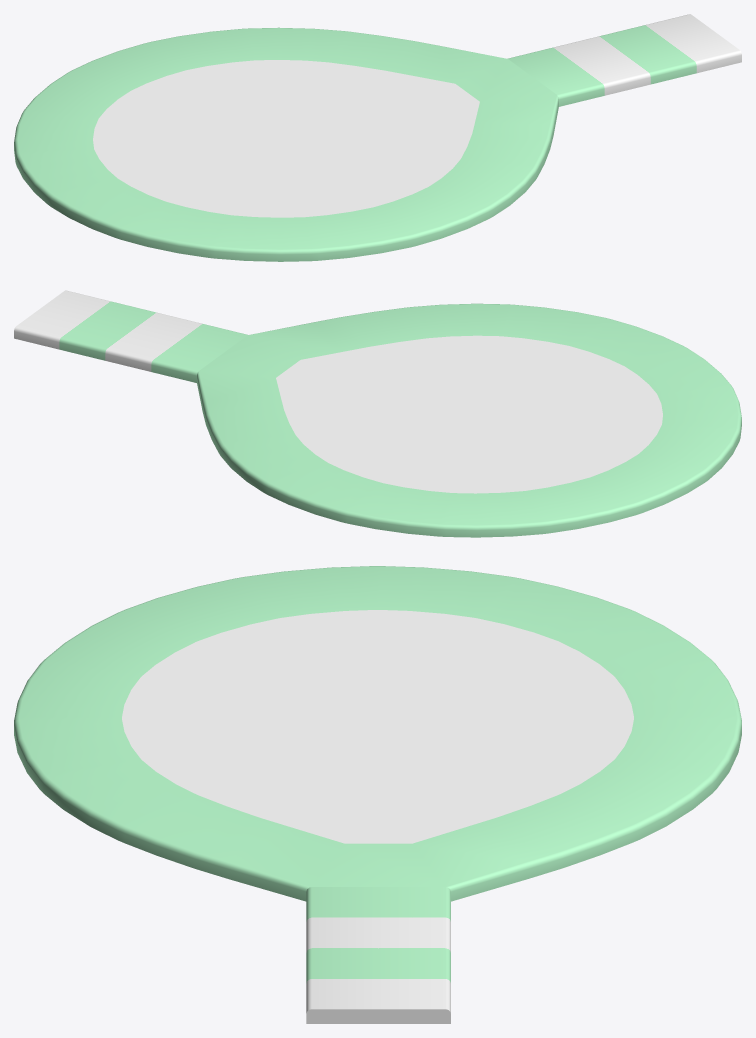
Rendered from FinishCircle_green.fbx.
The picture shows the model from 3 angles, top to bottom: view 1: azimuth 30°, elevation 25°; view 2: azimuth 150°, elevation 25°; view 3: azimuth 270°, elevation 25°; orthographic projection. The views are drawn at different scales.
Parts seen in each view (by area): view 1: FinishCircle_green; view 2: FinishCircle_green; view 3: FinishCircle_green.
Part boxes in pixels (x1,y1,x2,y2): FinishCircle_green: (14,14,741,261); FinishCircle_green: (14,290,741,537); FinishCircle_green: (14,566,741,1023).
Size of the model in its own units: 2184 by 33.69 by 1510.
1 material, 1 textured.
